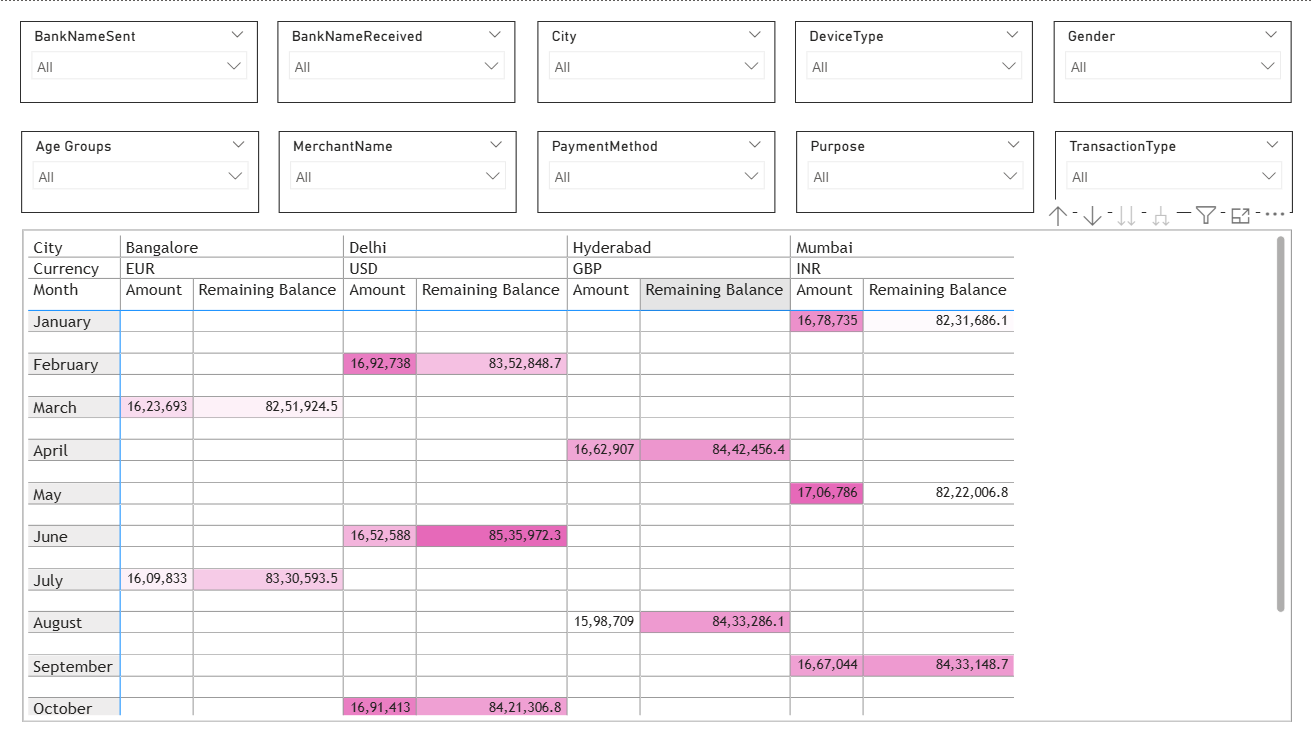

This screenshot's page, from the dashboard's own definition file:
{"tool":"powerbi","page":{"name":"Page 2","canvas":[1280,720],"ordinal":1},"visuals":[{"type":"slicer","fields":{"Values":["UPI Transaction.BankNameSent"]},"box":[20,20,232,80],"z":0},{"type":"slicer","fields":{"Values":["UPI Transaction.BankNameReceived"]},"box":[271,20,232,80],"z":1000},{"type":"slicer","fields":{"Values":["UPI Transaction.City"]},"box":[524,20,232,80],"z":2000},{"type":"slicer","fields":{"Values":["UPI Transaction.DeviceType"]},"box":[776,20,232,80],"z":3000},{"type":"slicer","fields":{"Values":["UPI Transaction.Gender"]},"box":[1028,20,232,80],"z":4000},{"type":"slicer","fields":{"Values":["UPI Transaction.Age Groups"]},"box":[20.9,127.1,232,80],"z":5000},{"type":"slicer","fields":{"Values":["UPI Transaction.MerchantName"]},"box":[271.9,127.1,232,80],"z":6000},{"type":"slicer","fields":{"Values":["UPI Transaction.PaymentMethod"]},"box":[524.9,127.1,232,80],"z":7000},{"type":"slicer","fields":{"Values":["UPI Transaction.Purpose"]},"box":[776.9,127.1,232,80],"z":8000},{"type":"slicer","fields":{"Values":["UPI Transaction.TransactionType"]},"box":[1028.9,127.1,232,80],"z":9000},{"type":"pivotTable","fields":{"Values":["Sum(UPI Transaction.Amount)","Sum(UPI Transaction.RemainingBalance)"],"Rows":["UPI Transaction.TransactionDate.Variation.Date Hierarchy.Month"],"Columns":["UPI Transaction.City","UPI Transaction.Currency"]},"box":[21.7,223.3,1238.3,480],"z":9001}]}

Visuals, with their boxes in screenshot pixels (x1, y1, x2, y2), scaled from the page's 1280x720 canvas onto the 1311x737 screenshot:
slicer - UPI Transaction.BankNameSent: [left=20, top=20, right=258, bottom=102]
slicer - UPI Transaction.BankNameReceived: [left=278, top=20, right=515, bottom=102]
slicer - UPI Transaction.City: [left=537, top=20, right=774, bottom=102]
slicer - UPI Transaction.DeviceType: [left=795, top=20, right=1032, bottom=102]
slicer - UPI Transaction.Gender: [left=1053, top=20, right=1291, bottom=102]
slicer - UPI Transaction.Age Groups: [left=21, top=130, right=259, bottom=212]
slicer - UPI Transaction.MerchantName: [left=278, top=130, right=516, bottom=212]
slicer - UPI Transaction.PaymentMethod: [left=538, top=130, right=775, bottom=212]
slicer - UPI Transaction.Purpose: [left=796, top=130, right=1033, bottom=212]
slicer - UPI Transaction.TransactionType: [left=1054, top=130, right=1291, bottom=212]
pivotTable - Sum(UPI Transaction.Amount) x Sum(UPI Transaction.RemainingBalance): [left=22, top=229, right=1291, bottom=720]
